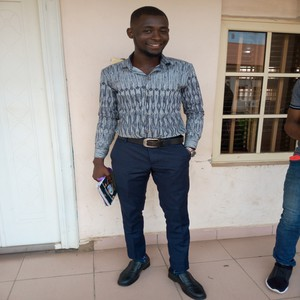Fulokoja_male_student: (93, 6, 206, 300)
